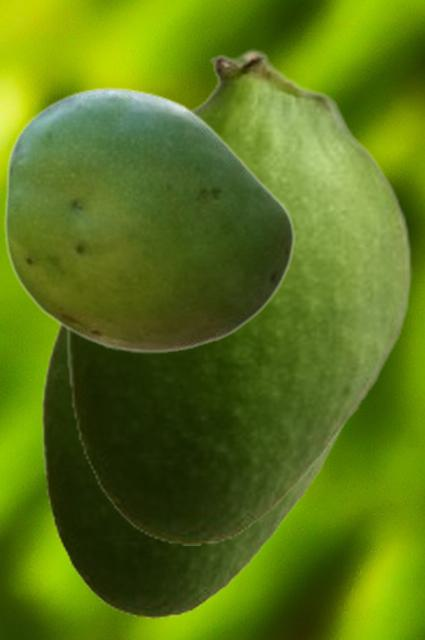green_mango: (65, 48, 411, 544), (40, 323, 350, 617), (3, 86, 294, 353)
